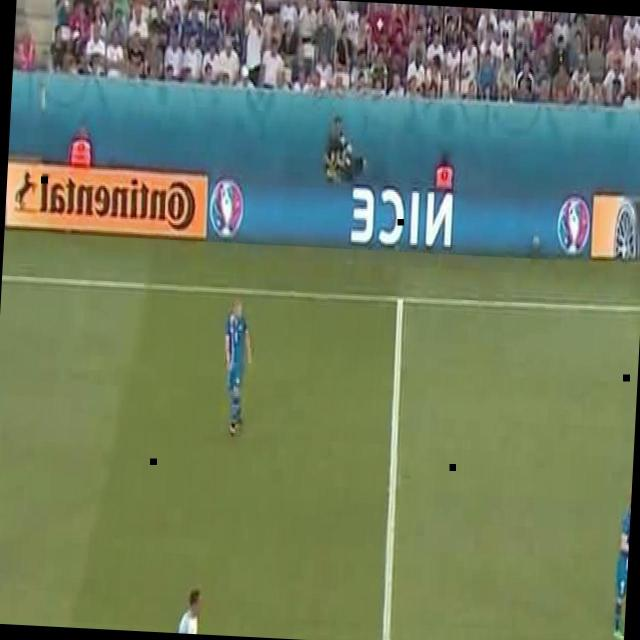player-white: (220, 296, 253, 436), (612, 483, 632, 639), (166, 588, 210, 634)
